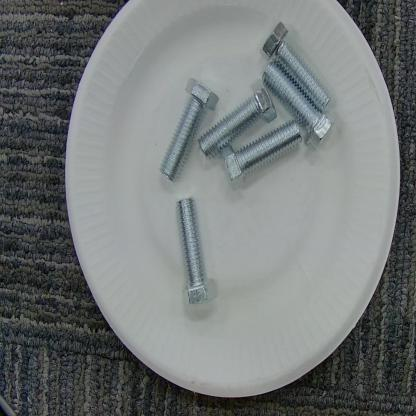FOD: (160, 19, 334, 189), (175, 195, 213, 313)
